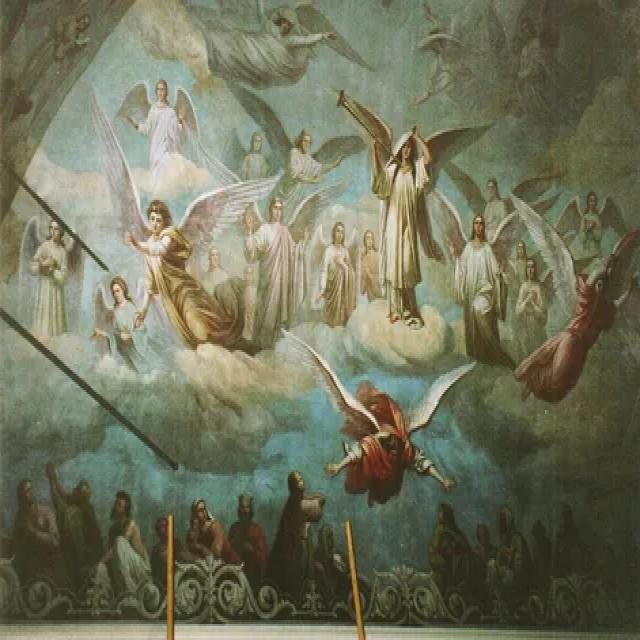angel: (328, 76, 486, 342)
